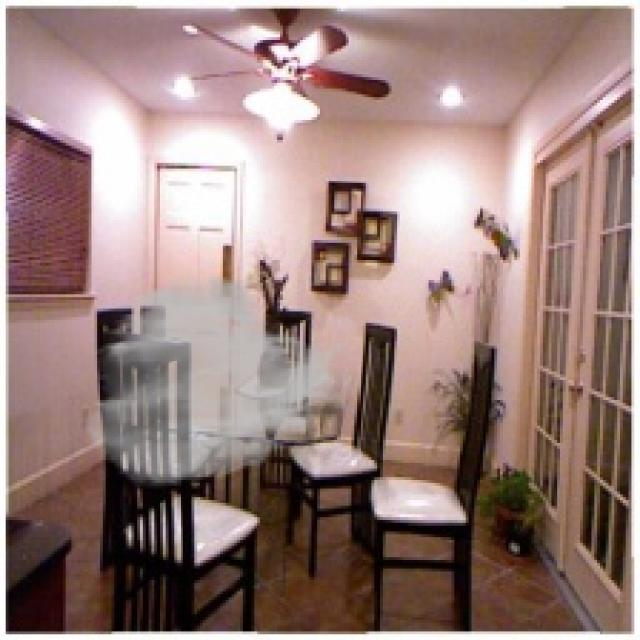smoke: (80, 272, 351, 488)
